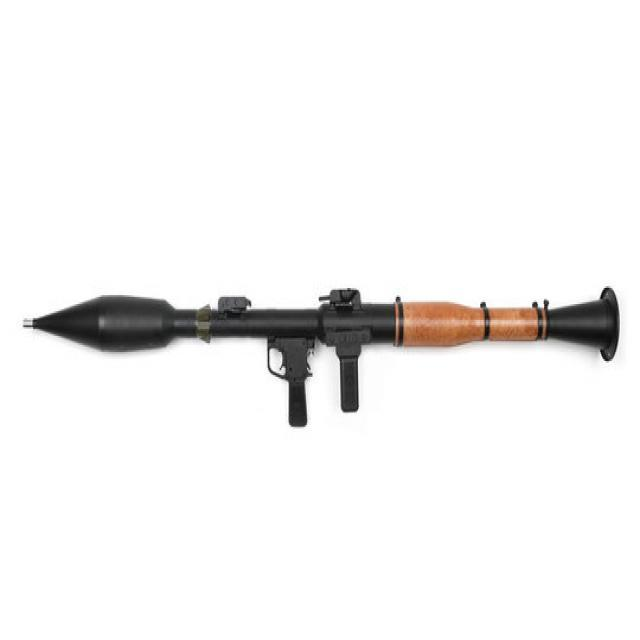rocket launcher: (15, 282, 621, 437)
